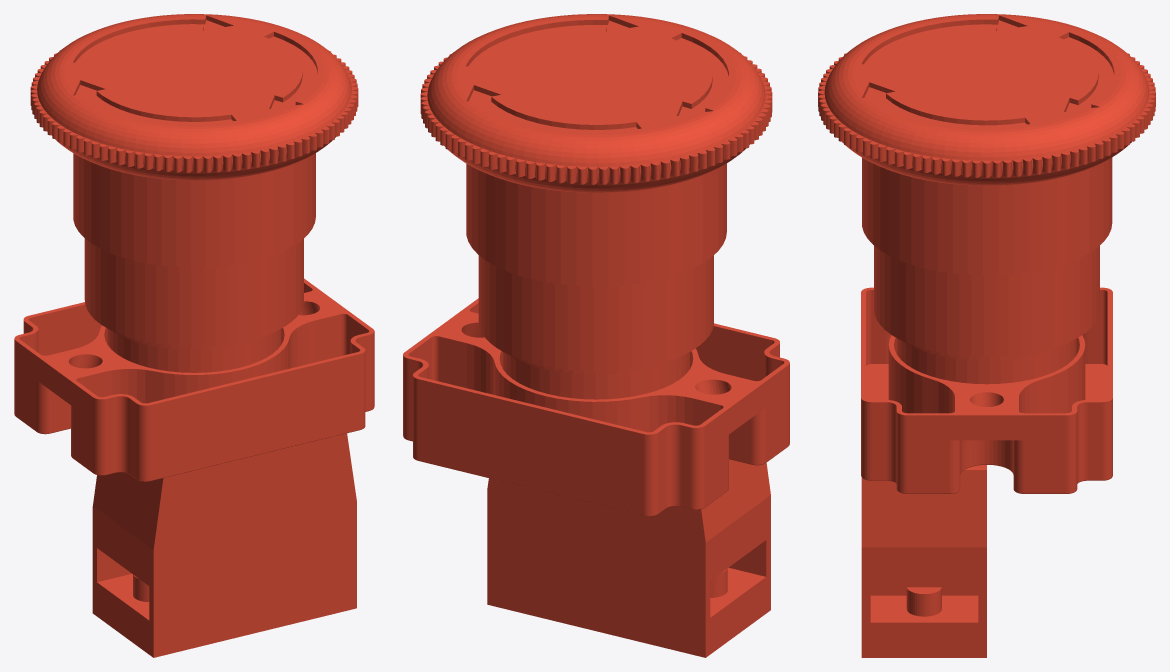
File: emergencyButton.dae
The picture shows the model from 3 angles, left to right: view 1: azimuth 30°, elevation 25°; view 2: azimuth 150°, elevation 25°; view 3: azimuth 270°, elevation 25°; orthographic projection. The views are drawn at different scales.
Visible parts, largest first — view 1: Emergency Button; view 2: Emergency Button; view 3: Emergency Button.
Part boxes in pixels (box(x1,y1,x2,y2)): Emergency Button: box(14, 14, 374, 657); Emergency Button: box(403, 14, 789, 657); Emergency Button: box(818, 14, 1155, 657).
Bounding box in the file's own units: 0.0404 × 0.0404 × 0.0704.
